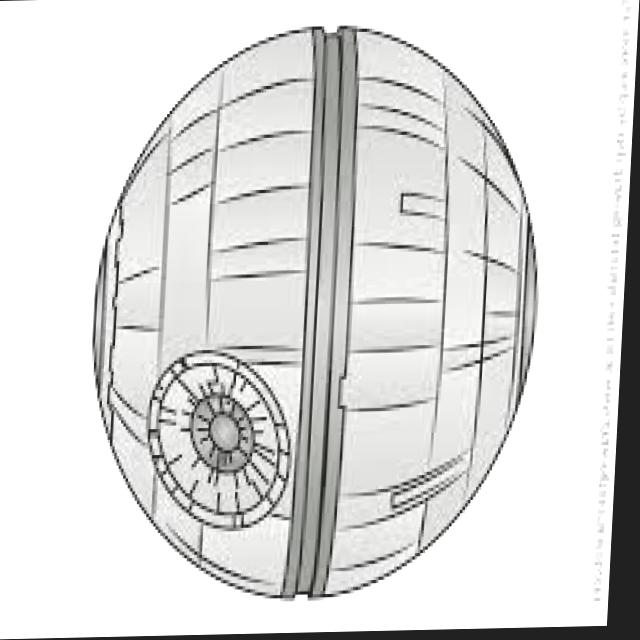deathStar: (86, 24, 551, 598)
